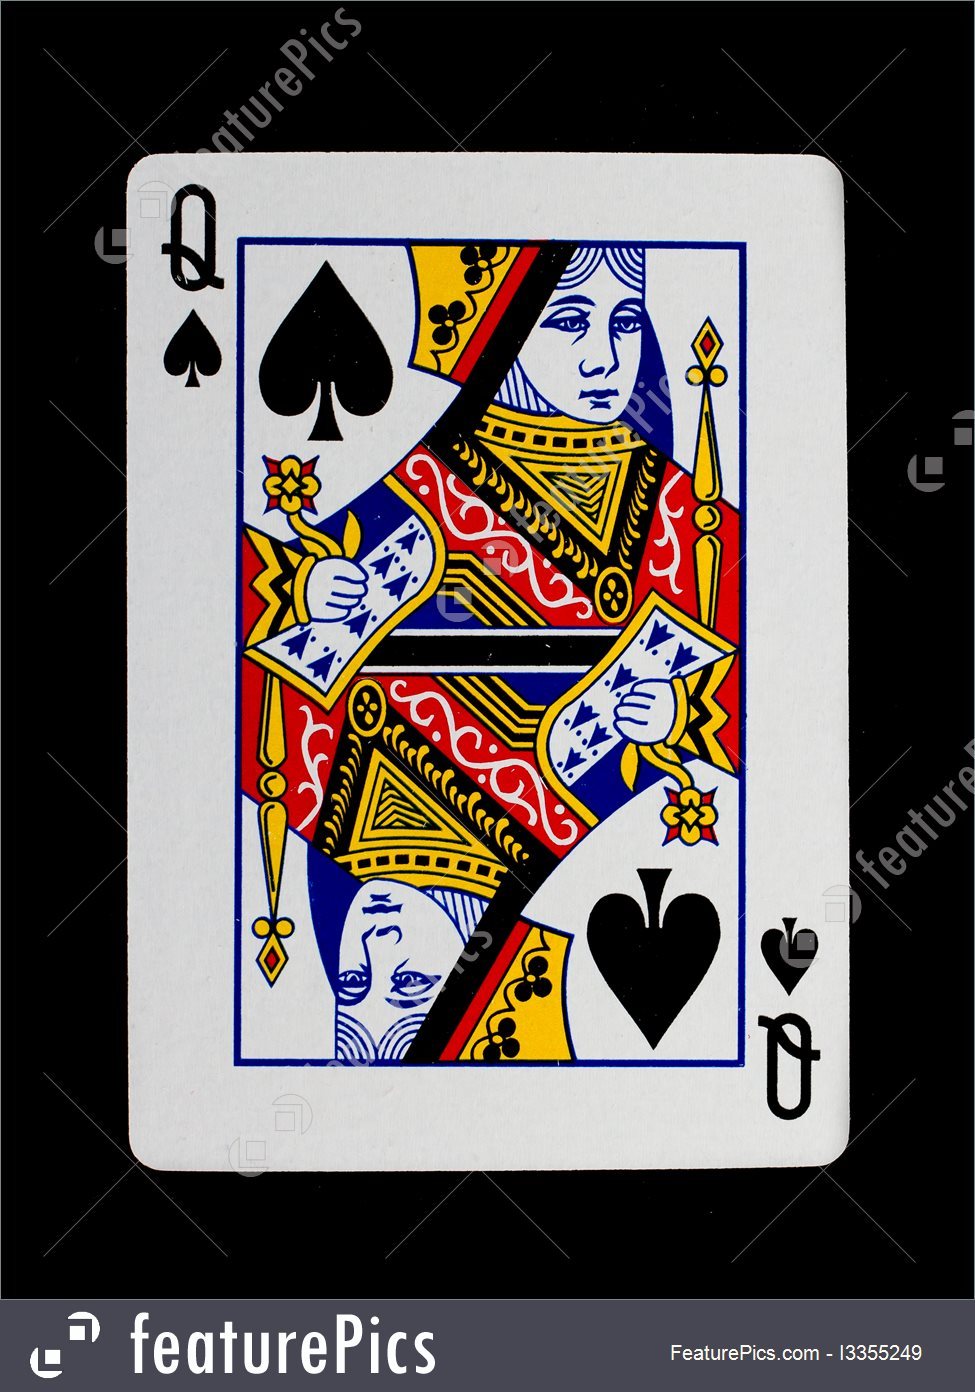queen of spades: (119, 148, 854, 1173)
